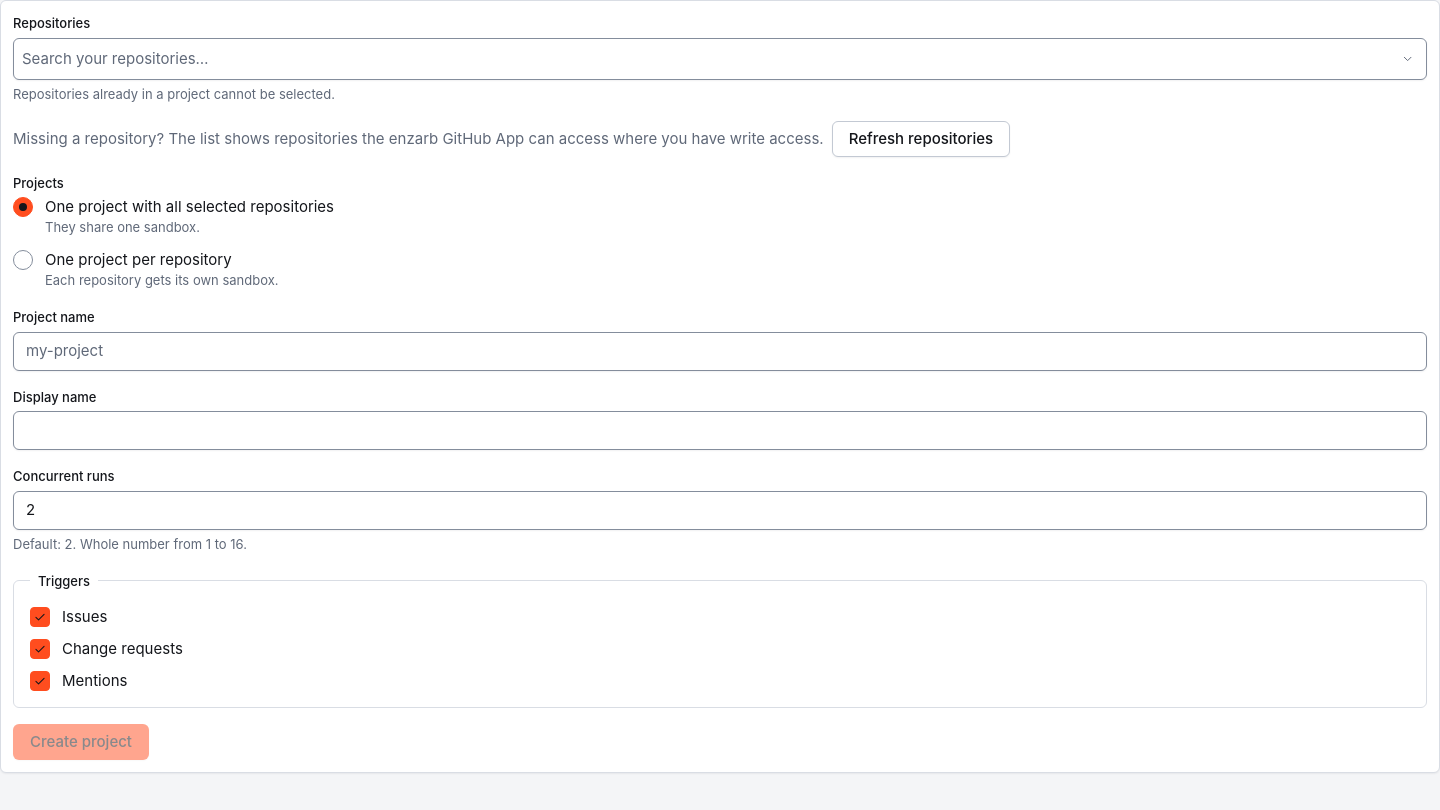
Test case: NewProjectForm › blocks submit for an out-of-range maxRuns
The width and height of the screenshot is (1440, 810).
Click the dropdown labelled "Repositories".
click(707, 59)  # box top-left (22, 43), bottom-right (1393, 75)
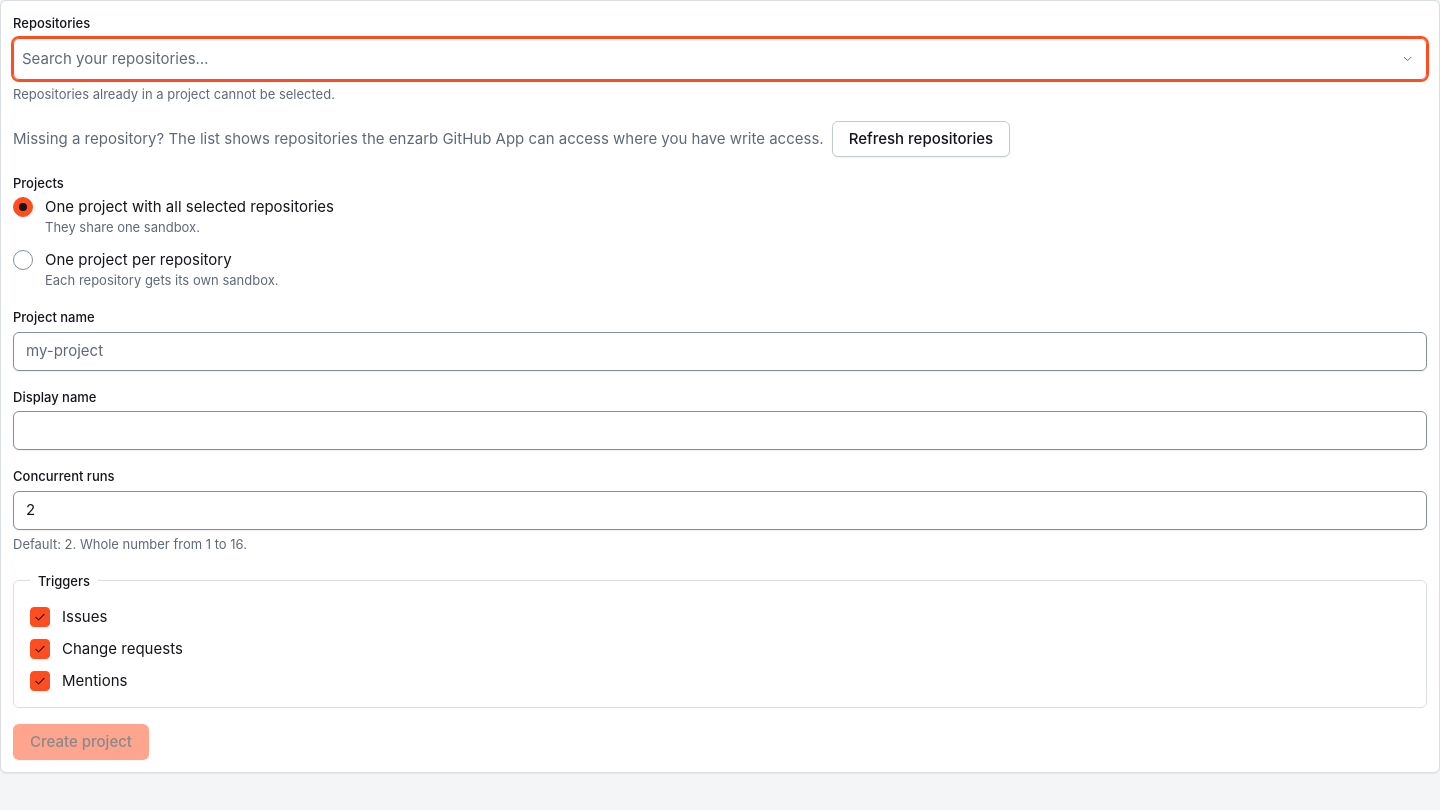
Press Arrowdown
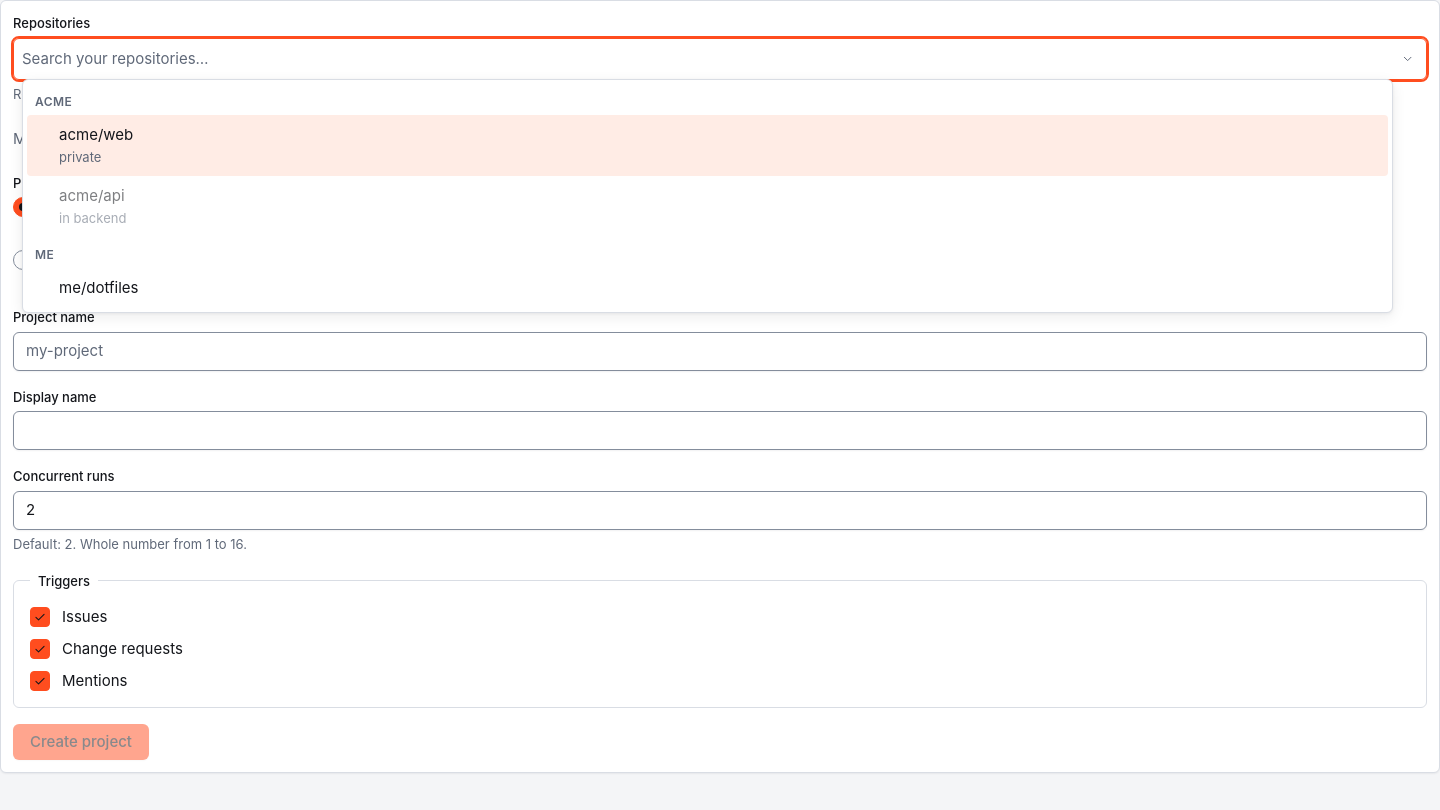
Click the option "acme/web private".
click(96, 135)  # box top-left (27, 115), bottom-right (1388, 176)
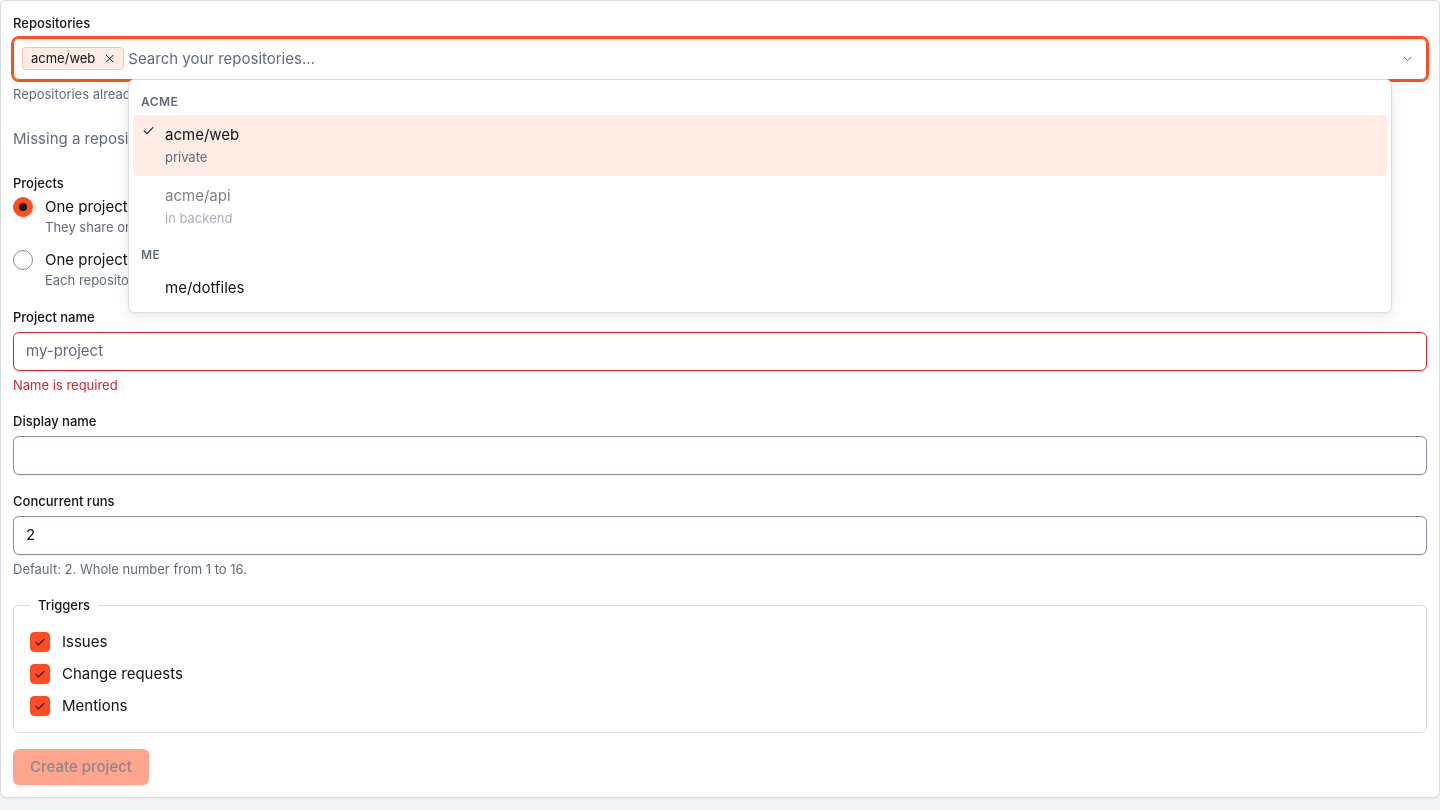
Press Escape
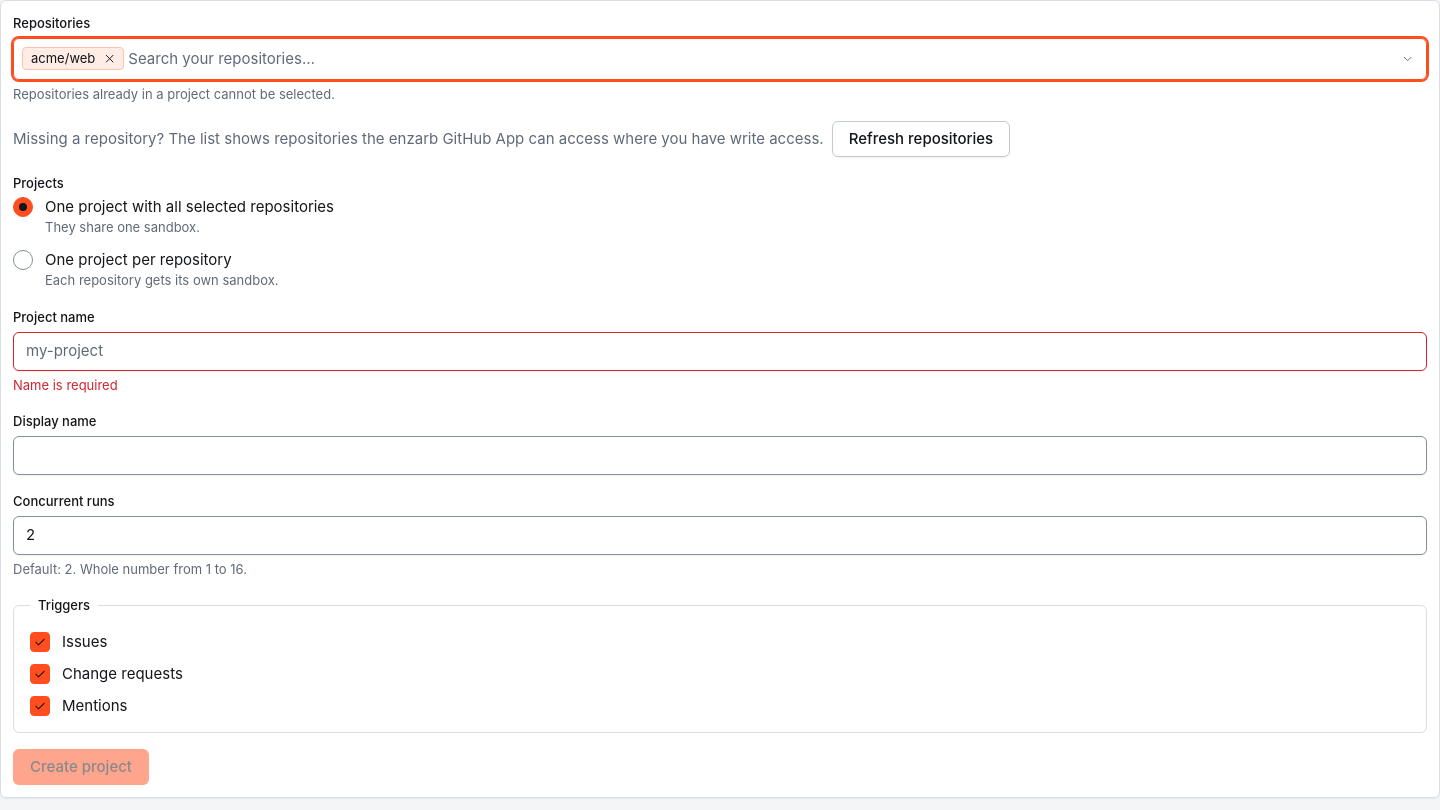
Type "x" into the field labelled "Project name".
click(720, 351); type("x")  # box top-left (13, 332), bottom-right (1427, 371)
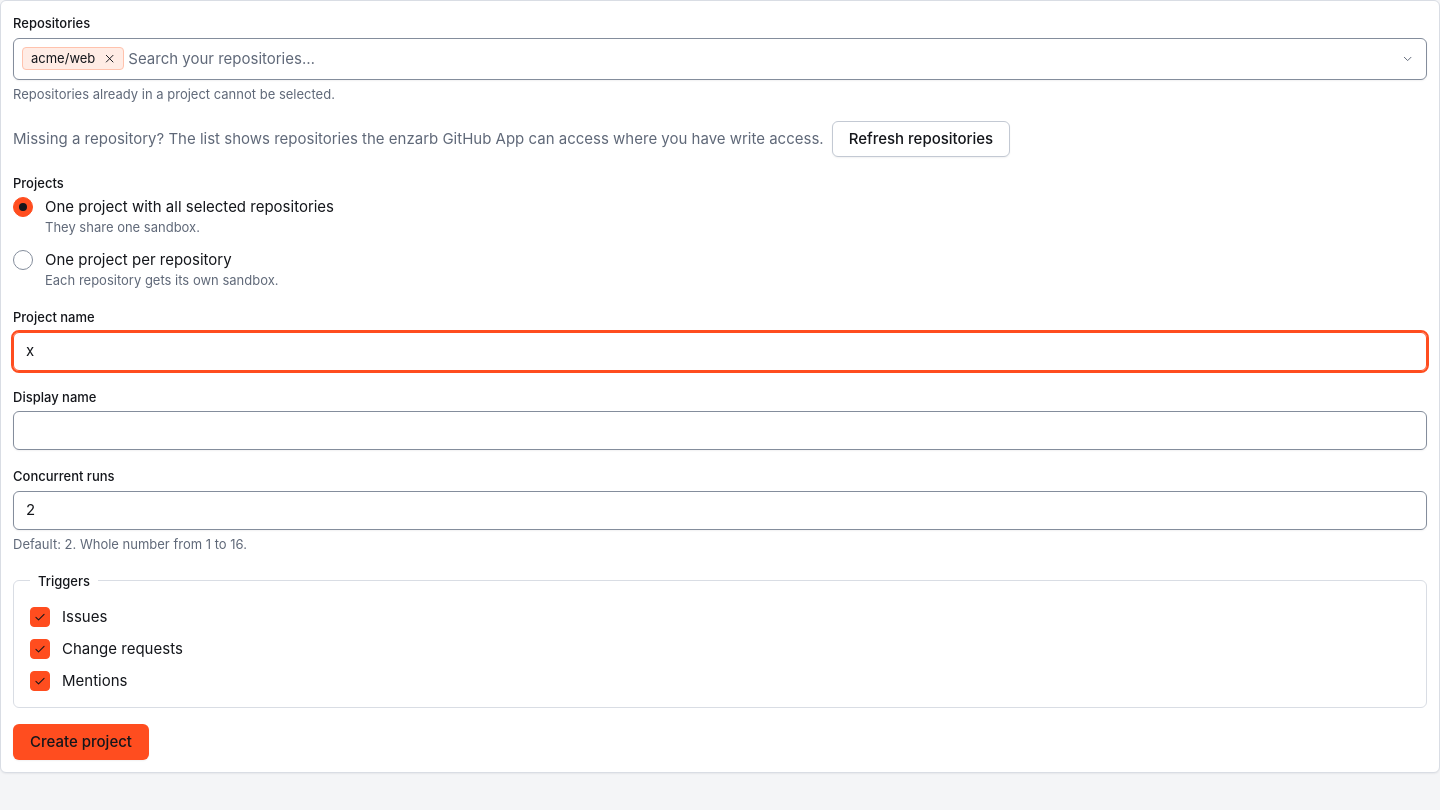
Replace the text in the number field labelled "Concurrent runs" with "17" at [720, 510], box top-left (13, 491), bottom-right (1427, 530)
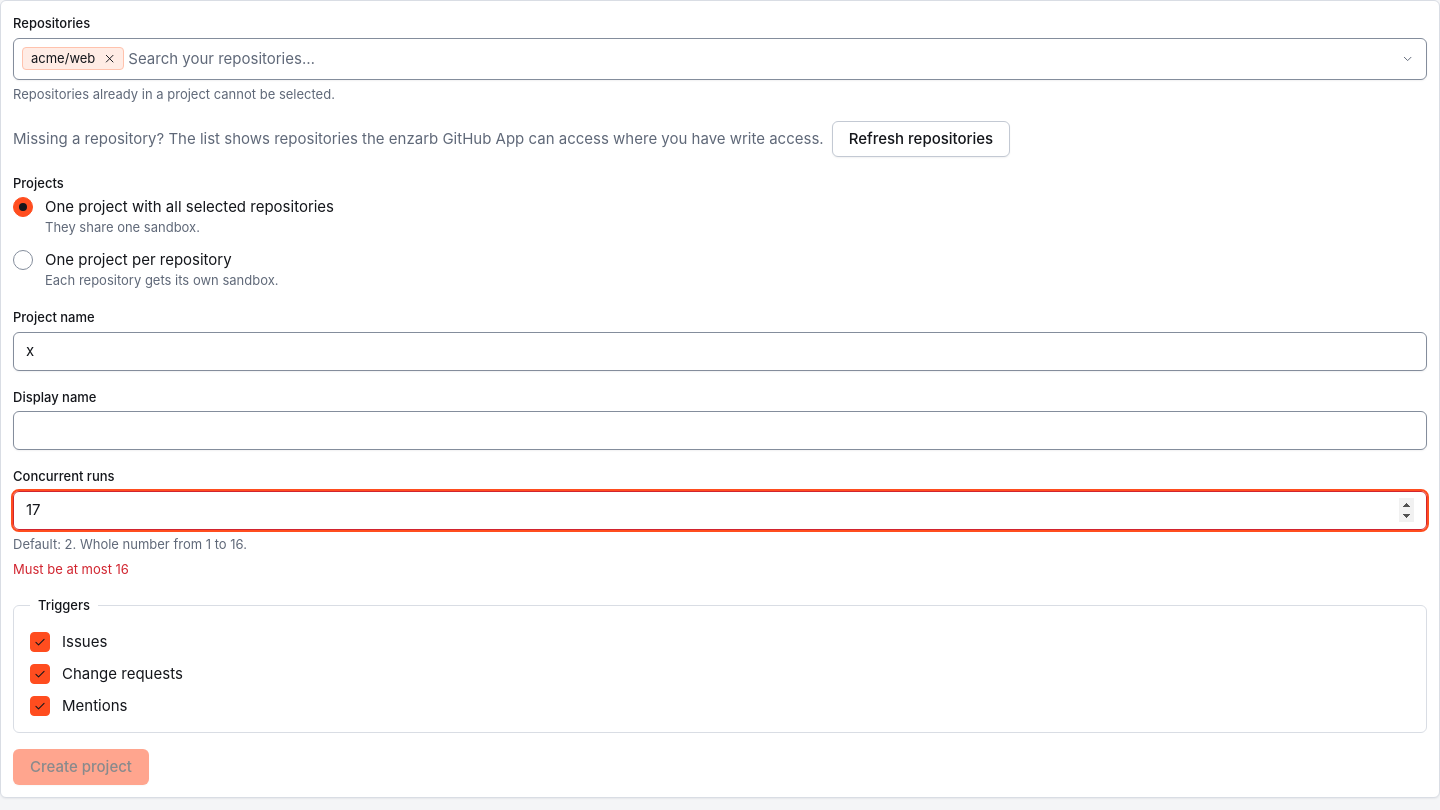
Expected: the button "Create project" is disabled, top-left (13, 749), bottom-right (149, 785)
